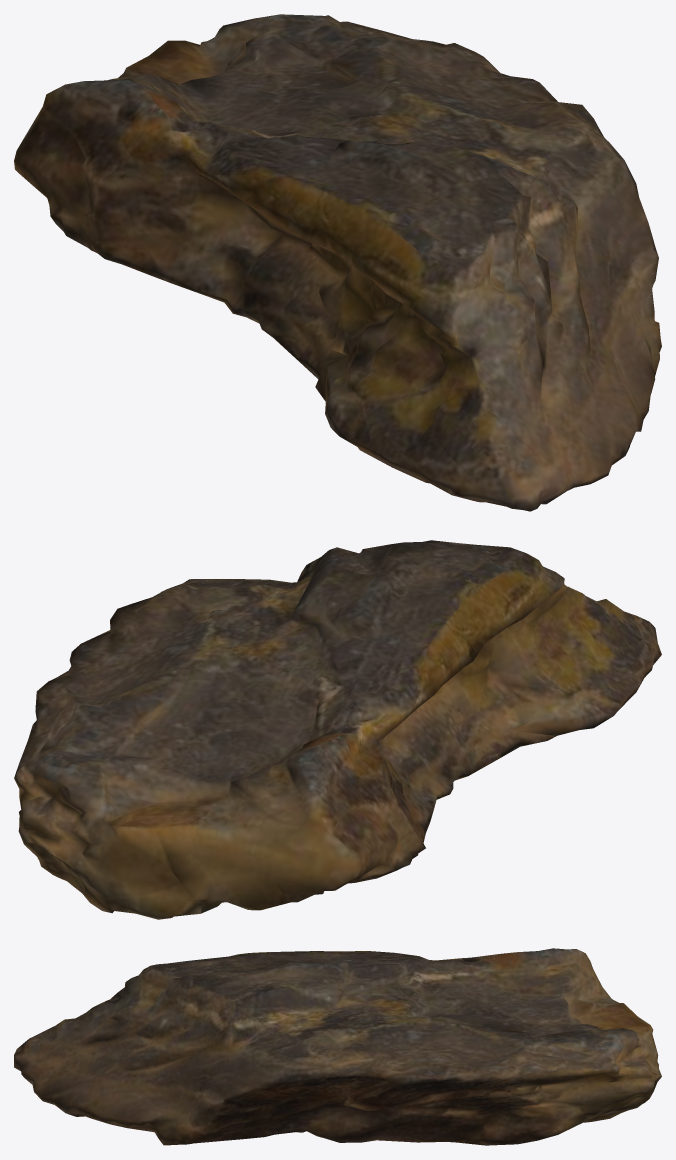
Rendered from rock_09.glb.
3 renders of one model, top to bottom at view 1: azimuth 30°, elevation 25°; view 2: azimuth 150°, elevation 25°; view 3: azimuth 270°, elevation 25°, orthographic. The views are drawn at different scales.
Parts seen in each view (by area): view 1: rock_09_LOD0; view 2: rock_09_LOD0; view 3: rock_09_LOD0.
Boxes of the visible parts, box(x1,y1,x2,y2) form: rock_09_LOD0: box(14, 14, 661, 511); rock_09_LOD0: box(14, 540, 661, 919); rock_09_LOD0: box(14, 948, 661, 1145).
Bounding box in the file's own units: 0.0739 × 0.0328 × 0.1446.
1 material, 1 textured.
